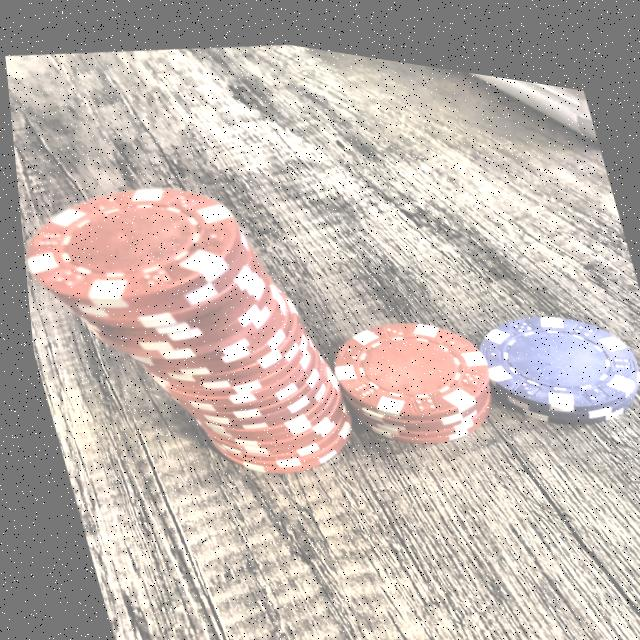Chip: (11, 139, 365, 517), (310, 285, 507, 458), (457, 272, 640, 433)
